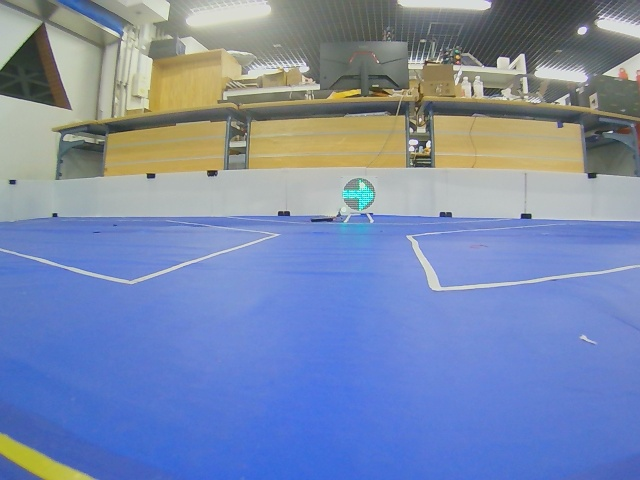right_green: (342, 178, 375, 211)
